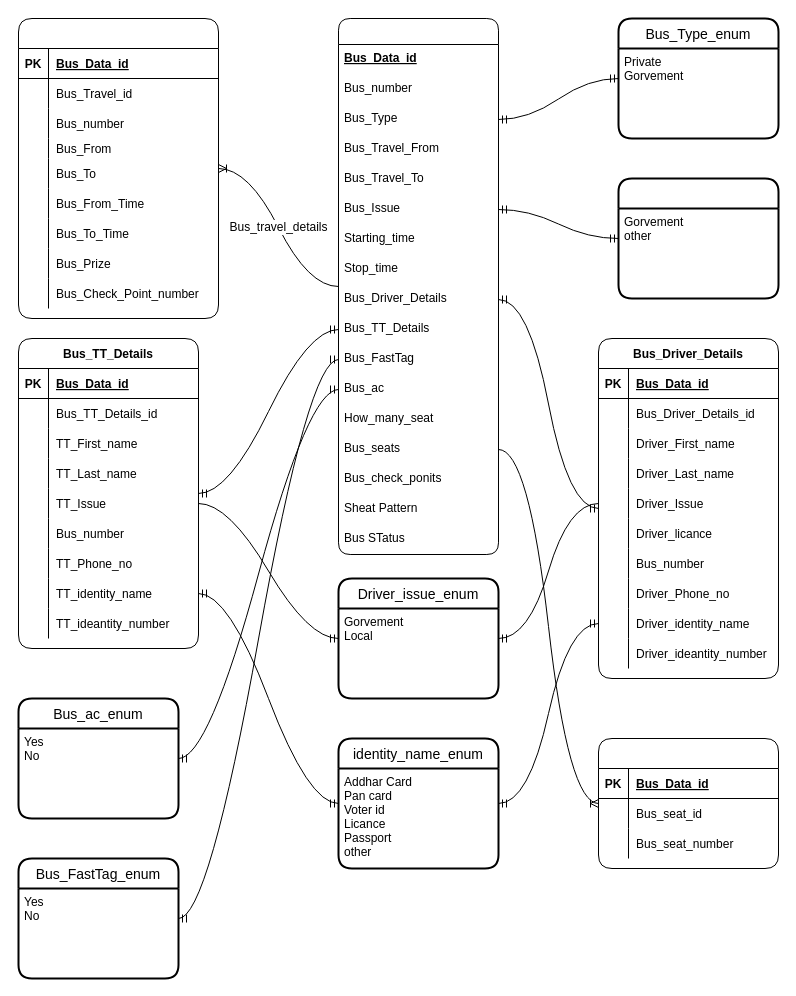
Image size: 796x996. Some labels were removed from this diagram. Here are the shapes that lost their labels. From the top down, the box of each, then its label:
(18, 18, 218, 318): Bus_Travel_data
(617, 177, 779, 299): Bus_Issue_enum
(338, 18, 498, 554): Bus_Data_Table
(598, 738, 778, 868): Bus_seats_table
